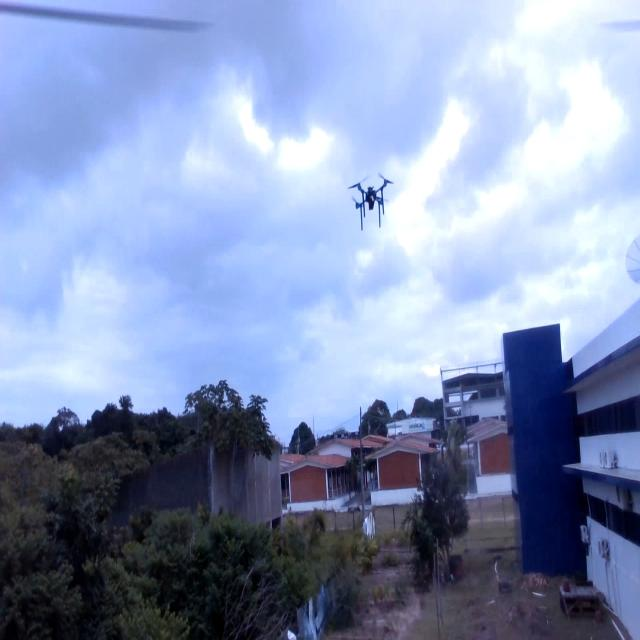-uav-: (337, 163, 401, 237)
